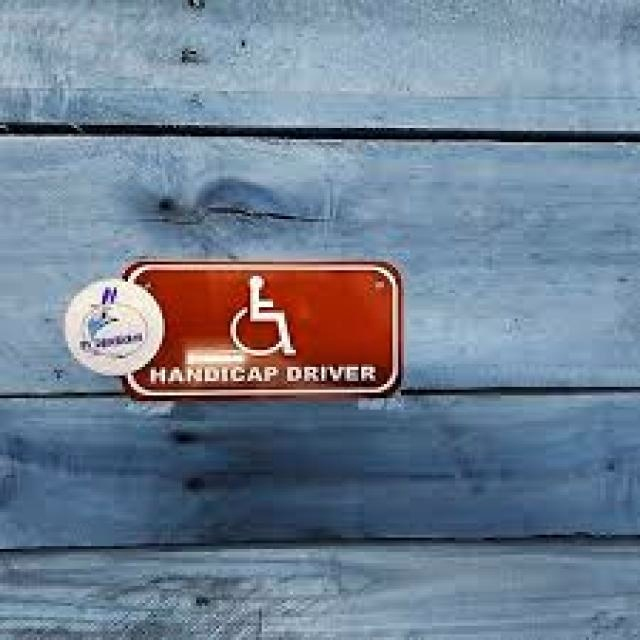ISA: (226, 274, 302, 362)
